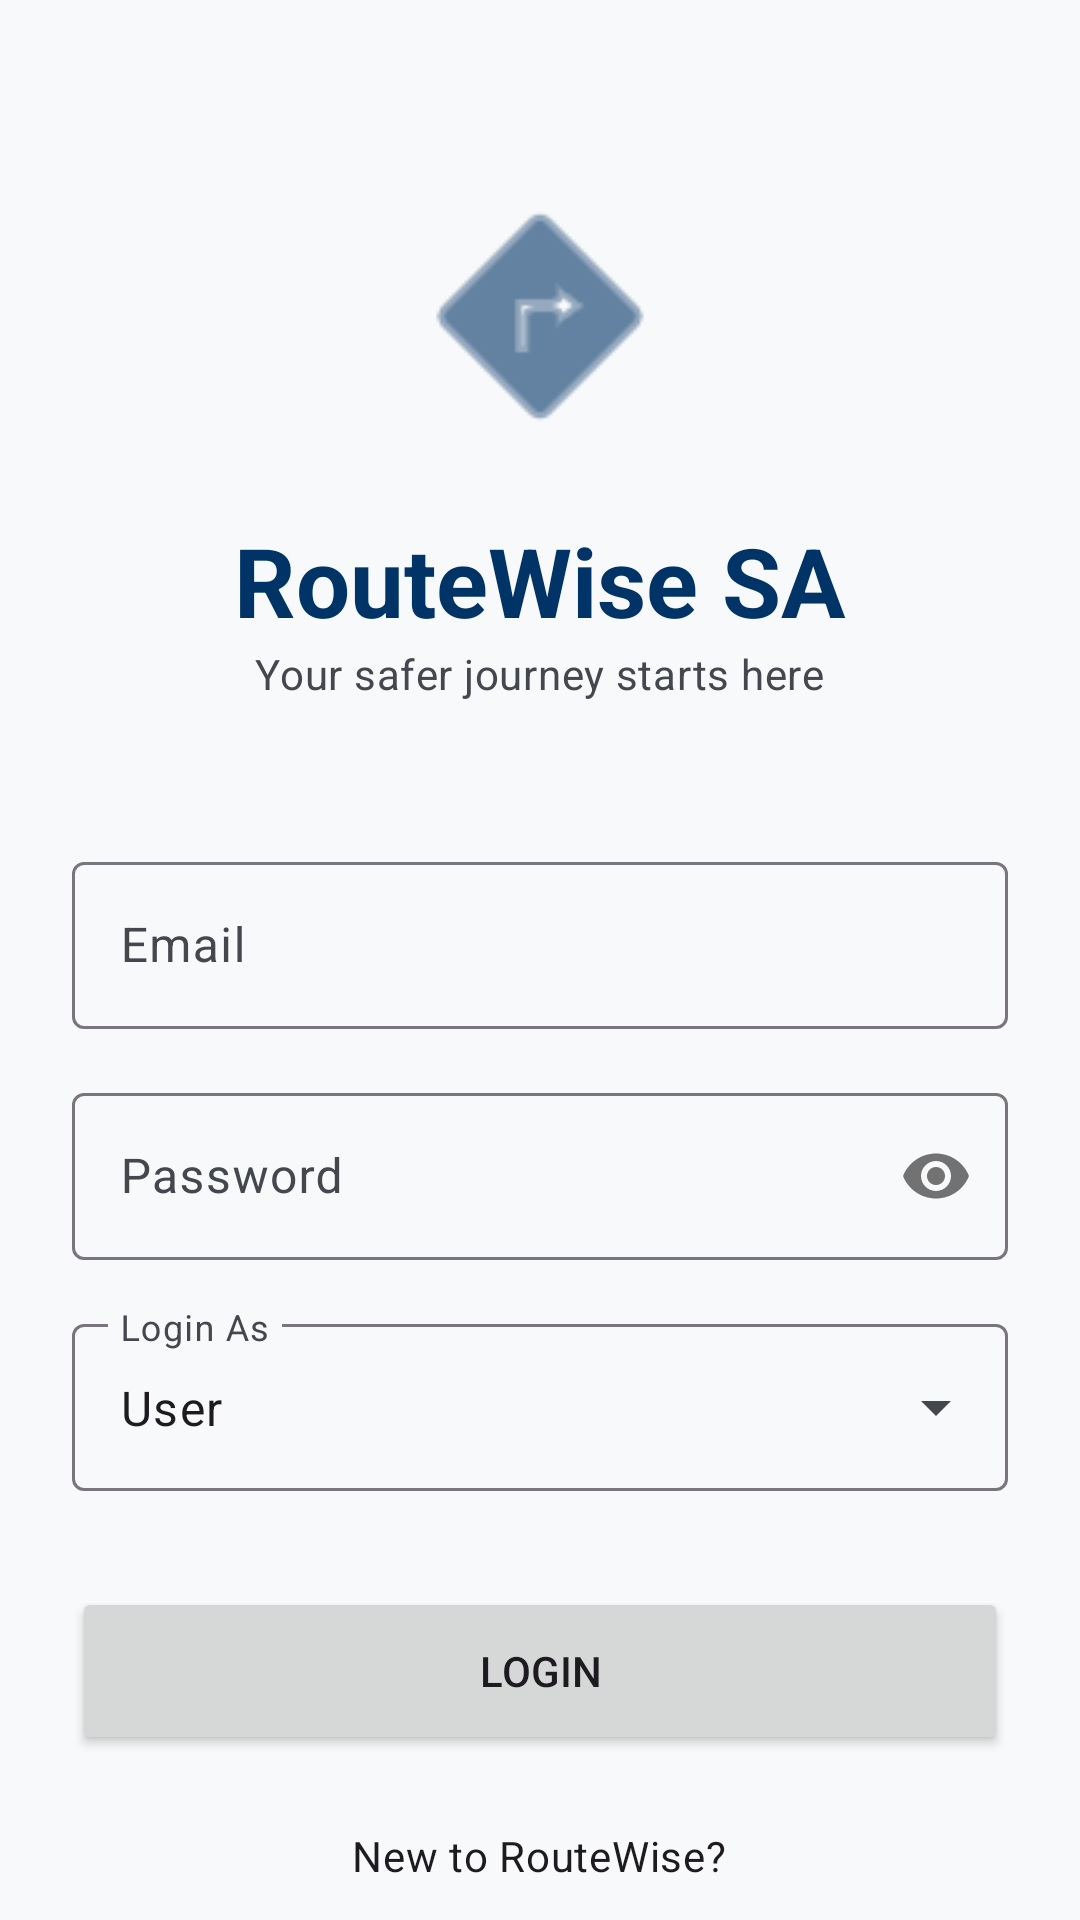

Screen size 1080px×1920px. Icon name, then its center in pixels as [x,y]:
directions: [540,316]
